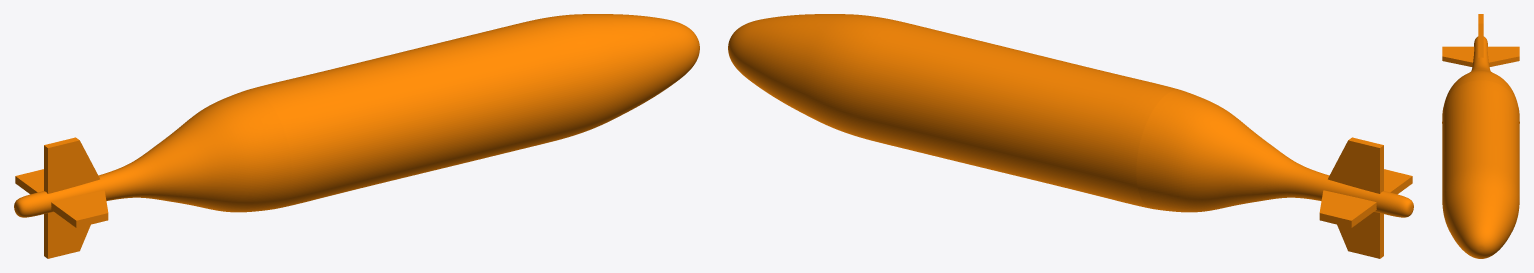
Rendered from hugin_color.dae.
3 views of the same model, side by side, from view 1: azimuth 30°, elevation 25°; view 2: azimuth 150°, elevation 25°; view 3: azimuth 270°, elevation 25° (orthographic). The views are drawn at different scales.
Visible parts, largest first — view 1: Hugin big meter; view 2: Hugin big meter; view 3: Hugin big meter.
Part boxes in pixels (left/top/right/bottom): Hugin big meter: left=14, top=14, right=699, bottom=258; Hugin big meter: left=728, top=14, right=1413, bottom=258; Hugin big meter: left=1442, top=14, right=1519, bottom=258.
Bounding box in the file's own units: 4499 × 706 × 706.
